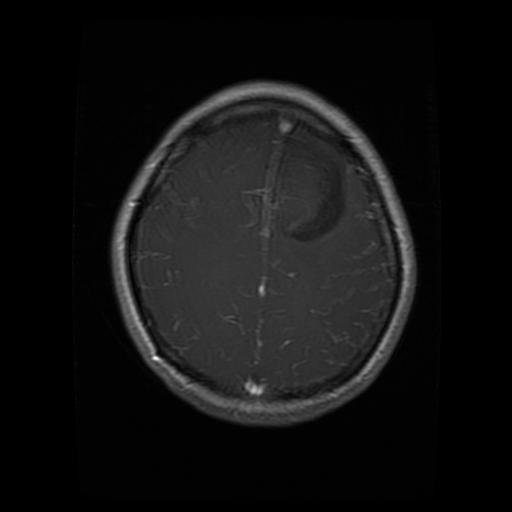Gliomia_tumour: (273, 143, 346, 242)
